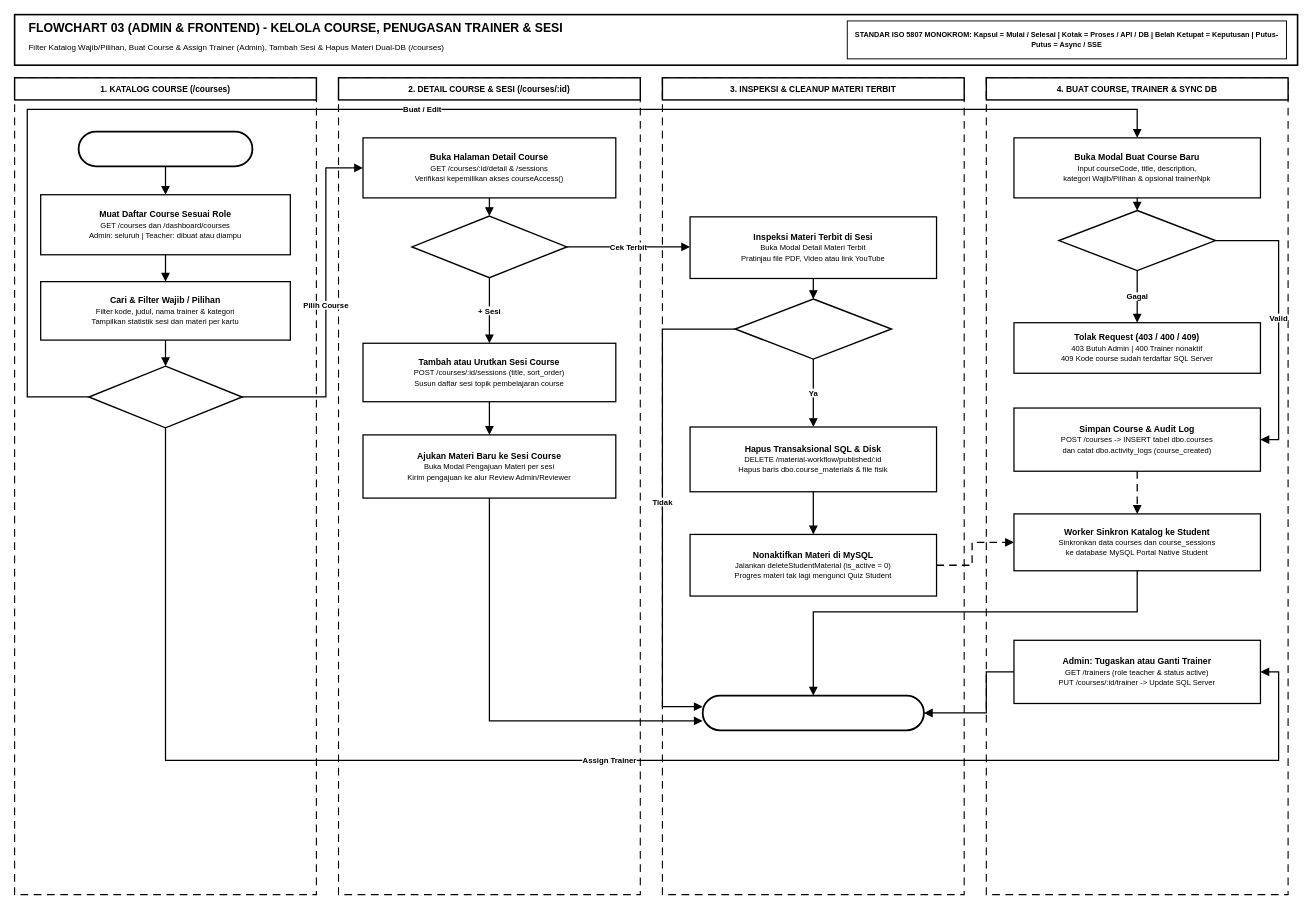
Some shapes in this 1311 by 909 pixel diagram are drawn without their labels. Each missing label, with the box of its shape:
Admin / Teacher Hapus Materi?: (734, 298, 892, 359)
Aksi Kelola di Detail Course?: (411, 215, 567, 278)
BUKA MENU COURSE: (77, 130, 253, 167)
COURSE & SESI TERKELOLA: (701, 694, 924, 731)
Isi trainerNpk? Role = Admin?: (1058, 209, 1216, 271)
Pilih Aksi di Halaman Course?: (88, 365, 242, 428)
